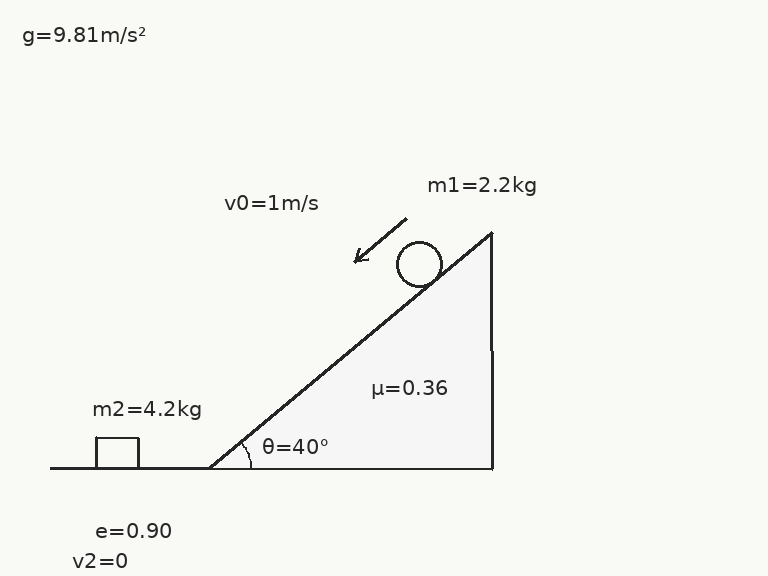ball: (394, 239, 444, 289)
block: (94, 435, 140, 470)
ramp: (209, 231, 493, 470)
